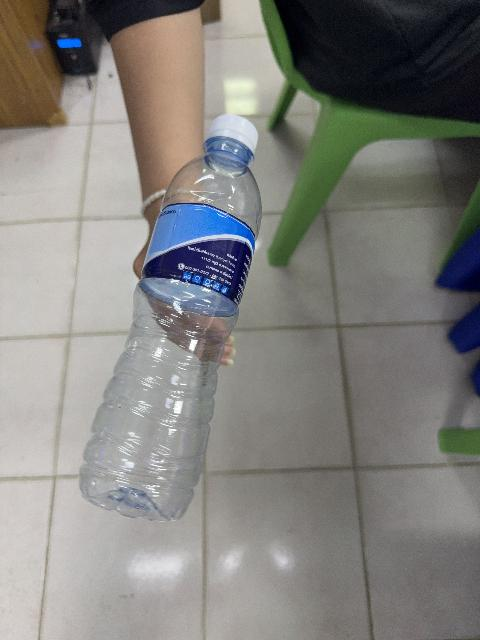bottle: (80, 116, 261, 520)
